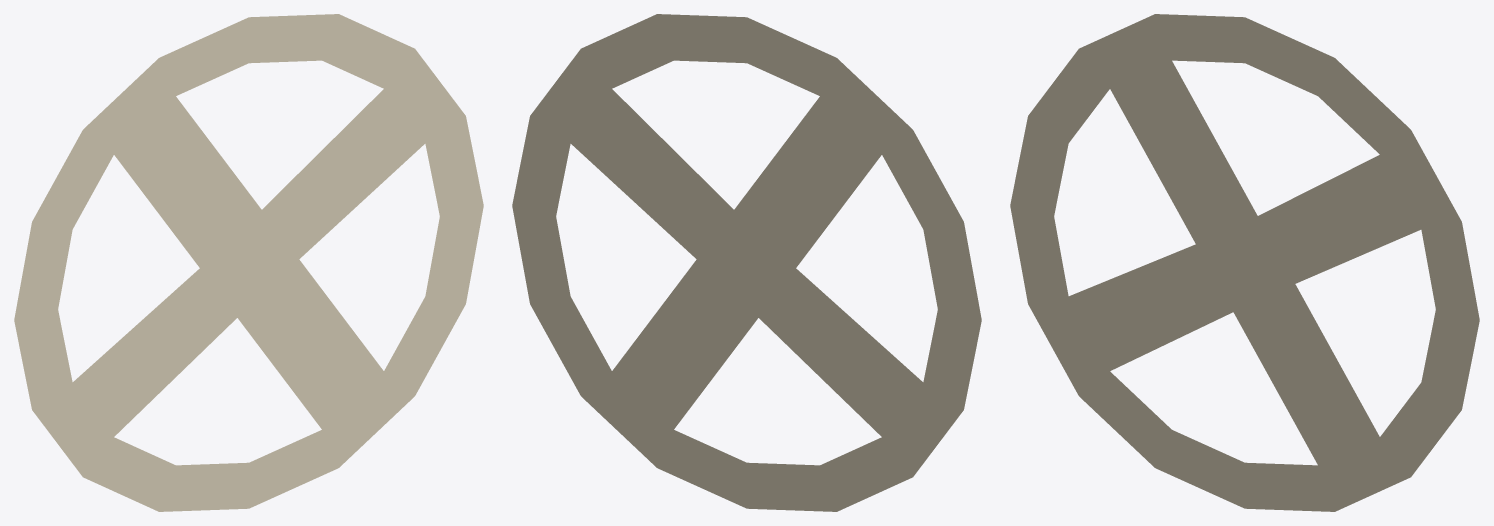
The model's file is 230_crosshair.gltf.
3 views of the same model, side by side, from view 1: azimuth 30°, elevation 25°; view 2: azimuth 150°, elevation 25°; view 3: azimuth 330°, elevation 25° (orthographic).
Visible parts, largest first — view 1: crosshair; view 2: crosshair; view 3: crosshair.
Part boxes in pixels (left/top/right/bottom): crosshair: left=14, top=14, right=483, bottom=511; crosshair: left=512, top=14, right=981, bottom=511; crosshair: left=1010, top=14, right=1479, bottom=511.
Size of the model in its own units: 2 by 2 by 0.
1 material, 1 textured.
